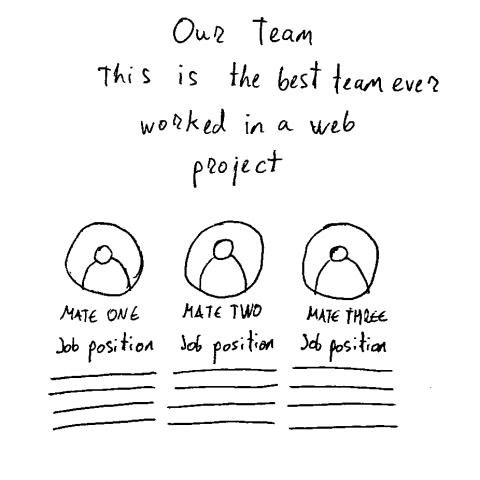Paragraph: (286, 364, 403, 432), (165, 368, 280, 428), (50, 371, 158, 434)
